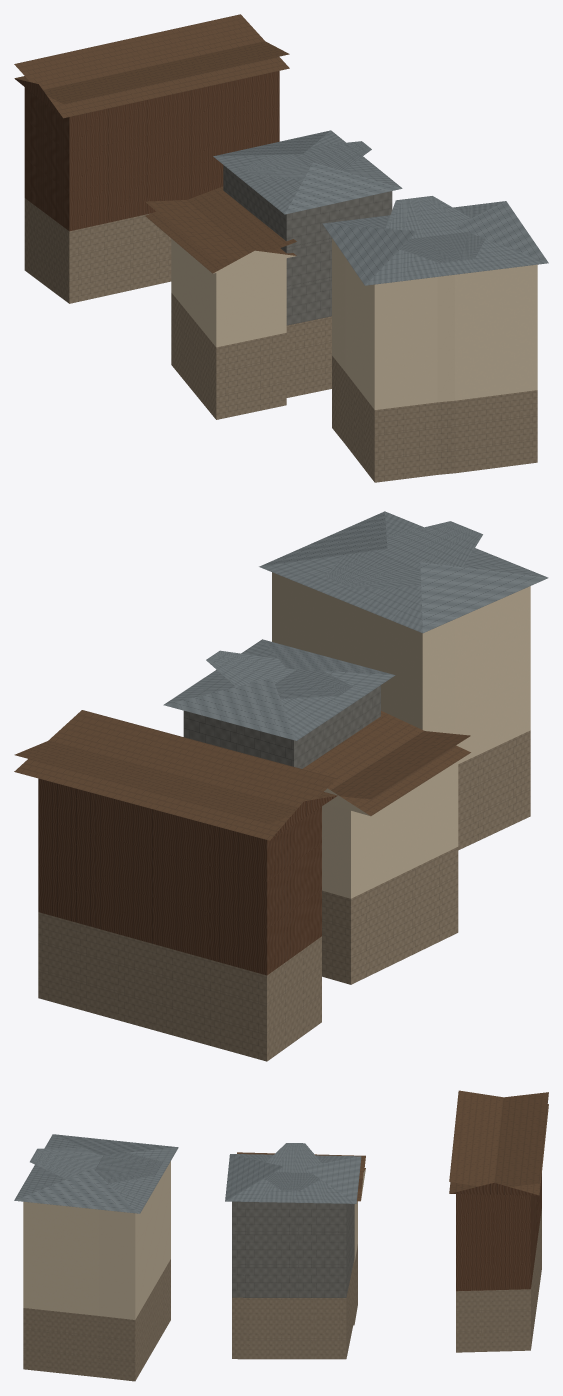
Rendered from bld_c0_10_494.gltf.
The picture shows the model from 3 angles, top to bottom: view 1: azimuth 30°, elevation 25°; view 2: azimuth 150°, elevation 25°; view 3: azimuth 270°, elevation 25°; orthographic projection. The views are drawn at different scales.
Parts seen in each view (by area): view 1: bld_c0_10_494; view 2: bld_c0_10_494; view 3: bld_c0_10_494.
Boxes of the visible parts, x1,y1,x2,y2 form: bld_c0_10_494: (14,14,548,482); bld_c0_10_494: (14,511,548,1061); bld_c0_10_494: (14,1090,548,1381).
Size of the model in its own units: 18.75 by 16.1 by 40.25.
8 materials, 8 textured.
